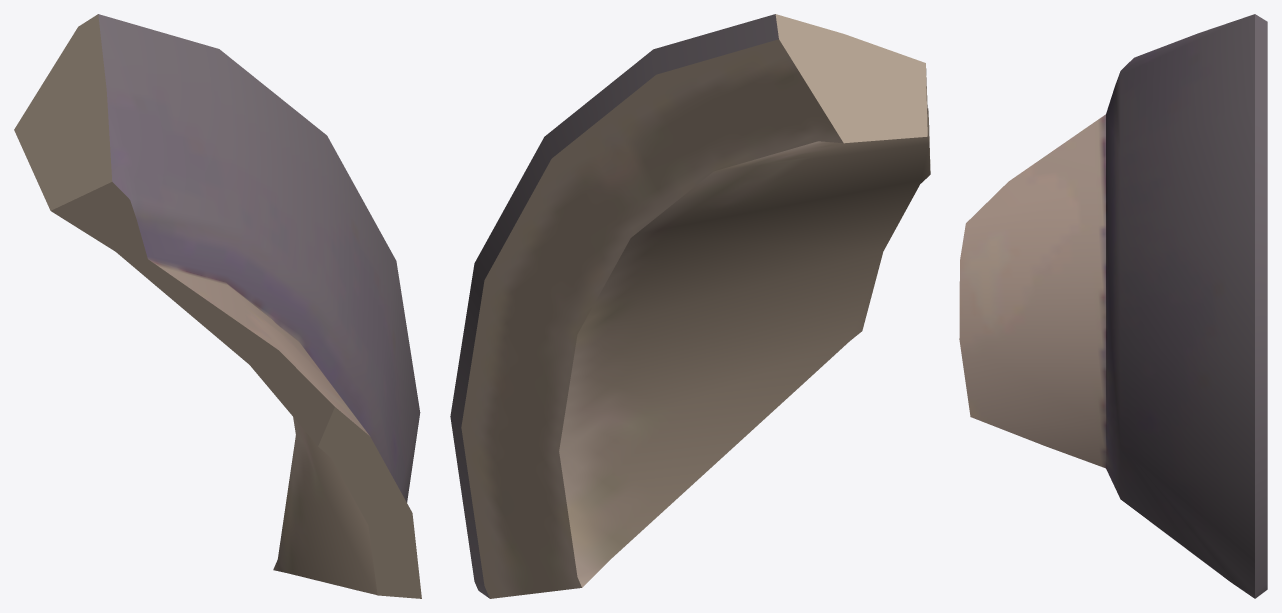
File: Pot_Cell10.fbx
The picture shows the model from 3 angles, left to right: view 1: azimuth 30°, elevation 25°; view 2: azimuth 150°, elevation 25°; view 3: azimuth 270°, elevation 25°; orthographic projection. The views are drawn at different scales.
Visible parts, largest first — view 1: jar1_cell.010; view 2: jar1_cell.010; view 3: jar1_cell.010.
Part boxes in pixels (box(x1,y1,x2,y2)): jar1_cell.010: box(14, 14, 421, 598); jar1_cell.010: box(450, 14, 930, 598); jar1_cell.010: box(959, 14, 1267, 598).
Size of the model in its own units: 82.54 by 120 by 70.27.
Materials: 1 (1 with a texture image).
